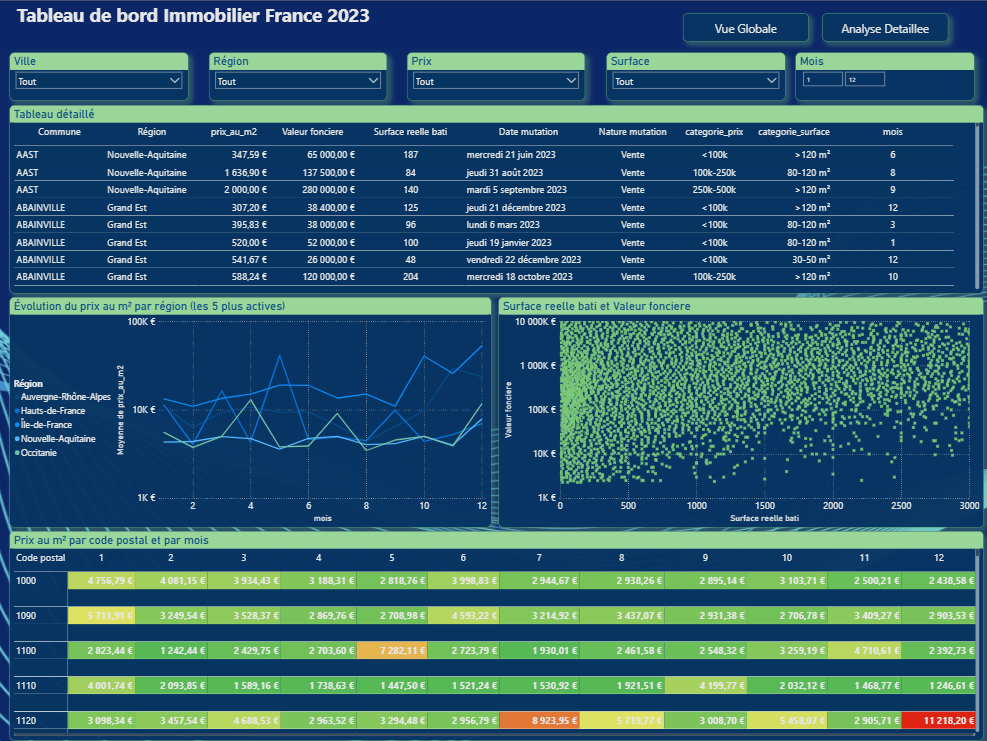

The dashboard page shown, as its layout file describes it:
{"tool":"powerbi","page":{"name":"Page 2","canvas":[2300,1700],"ordinal":1},"visuals":[{"type":"slicer","title":"Surface","fields":{"Values":["transactions.categorie_surface"]},"box":[1392,120,410,110],"z":0},{"type":"slicer","title":"Mois","fields":{"Values":["transactions.mois"]},"box":[1824,120,410,110],"z":1000},{"type":"slicer","title":"Ville","fields":{"Values":["transactions.Commune"]},"box":[24,120,410,110],"z":2000},{"type":"slicer","title":"Région","fields":{"Values":["transactions.Région"]},"box":[480,120,408,110],"z":3000},{"type":"slicer","title":"Prix","fields":{"Values":["transactions.categorie_prix"]},"box":[936,120,408,110],"z":4000},{"type":"textbox","box":[24,0,984,72],"z":5000},{"type":"tableEx","title":"Tableau détaillé","fields":{"Values":["transactions.Commune","transactions.Région","transactions.prix_au_m2","transactions.Valeur fonciere","transactions.Surface reelle bati","transactions.Date mutation","transactions.Nature mutation","transactions.categorie_prix","transactions.categorie_surface","transactions.mois"]},"box":[24,240,2232,432],"z":6000},{"type":"scatterChart","fields":{"X":["transactions.Surface reelle bati"],"Y":["transactions.Valeur fonciere"]},"box":[1144,680,1112,528],"z":7000},{"type":"lineChart","title":"Évolution du prix au m² par région (les 5 plus actives)","fields":{"Category":["transactions.mois"],"Y":["Avg(transactions.prix_au_m2)"],"Series":["transactions.Région"]},"box":[24,680,1104,528],"z":8000},{"type":"pivotTable","title":"Prix au m² par code postal et par mois","fields":{"Rows":["transactions.Code postal"],"Columns":["transactions.mois"],"Values":["Avg(transactions.prix_au_m2)"]},"box":[24,1216,2232,480],"z":9000},{"type":"actionButton","title":"Vue Globale","box":[1568,32,288,64],"z":10000},{"type":"actionButton","title":"Analyse Detaillee","box":[1888,32,288,64],"z":11000}]}

Visuals, with their boxes in screenshot pixels (x1, y1, x2, y2), scaled from the page's 2300x1700 canvas onto the 987x741 screenshot:
"Surface" slicer: <bbox>597, 52, 773, 100</bbox>
"Mois" slicer: <bbox>783, 52, 959, 100</bbox>
"Ville" slicer: <bbox>10, 52, 186, 100</bbox>
"Région" slicer: <bbox>206, 52, 381, 100</bbox>
"Prix" slicer: <bbox>402, 52, 577, 100</bbox>
textbox: <bbox>10, 0, 433, 31</bbox>
"Tableau détaillé" tableEx: <bbox>10, 105, 968, 293</bbox>
scatterChart - transactions.Surface reelle bati x transactions.Valeur fonciere: <bbox>491, 296, 968, 527</bbox>
"Évolution du prix au m² par région (les 5 plus actives)" lineChart: <bbox>10, 296, 484, 527</bbox>
"Prix au m² par code postal et par mois" pivotTable: <bbox>10, 530, 968, 739</bbox>
"Vue Globale" actionButton: <bbox>673, 14, 796, 42</bbox>
"Analyse Detaillee" actionButton: <bbox>810, 14, 934, 42</bbox>
